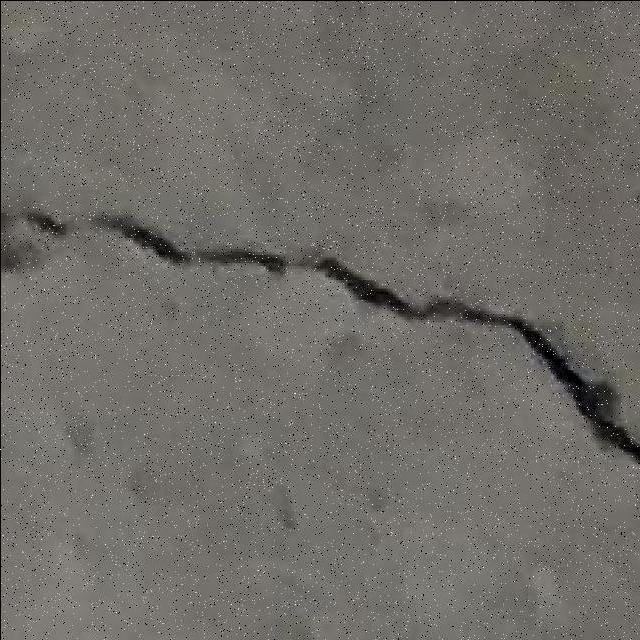crack: (25, 203, 639, 466)
